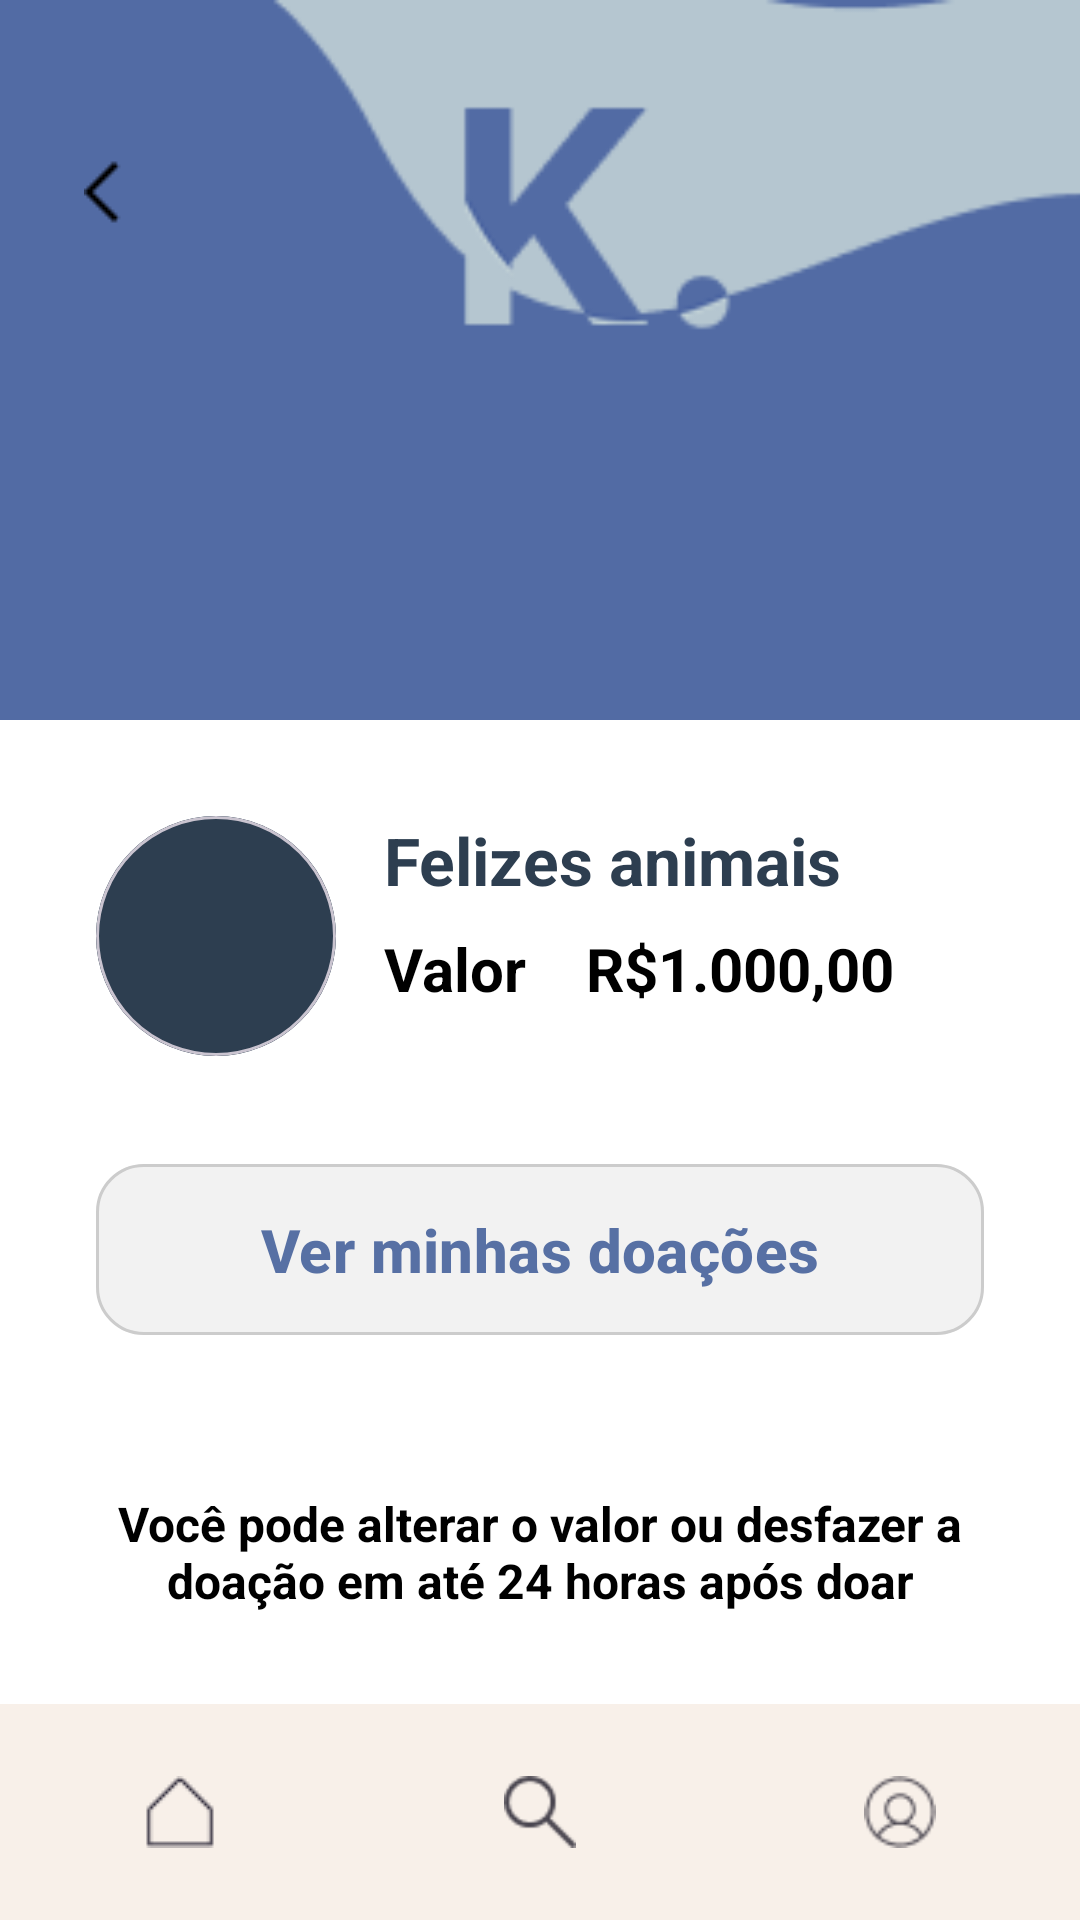

Point at icon controls on the screen. Image size 1080w x 1920h, points as [x,y].
back arrow: [101,192]
